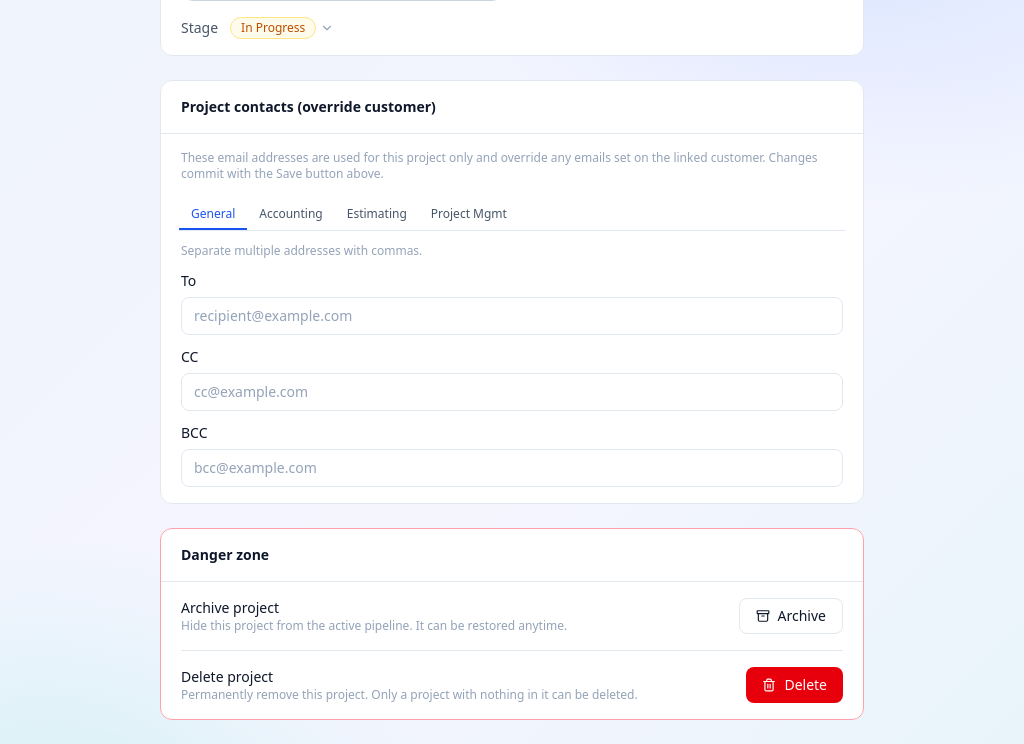
Test: ProjectSettings delete › if the server refuses after all, it says why and offers Archive
(page scrolled)
Click the button "Delete" at (795, 685), box [746, 667, 843, 703]
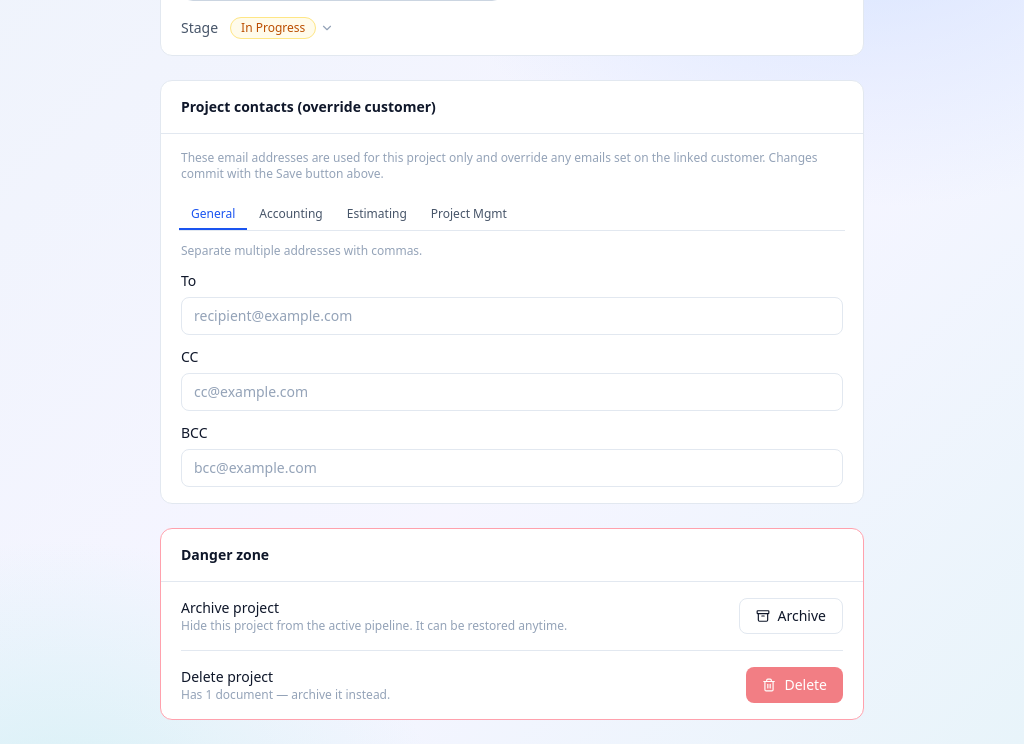
Result: the text "Has 1 document — archive it instead." is shown at [181, 687, 390, 703]
